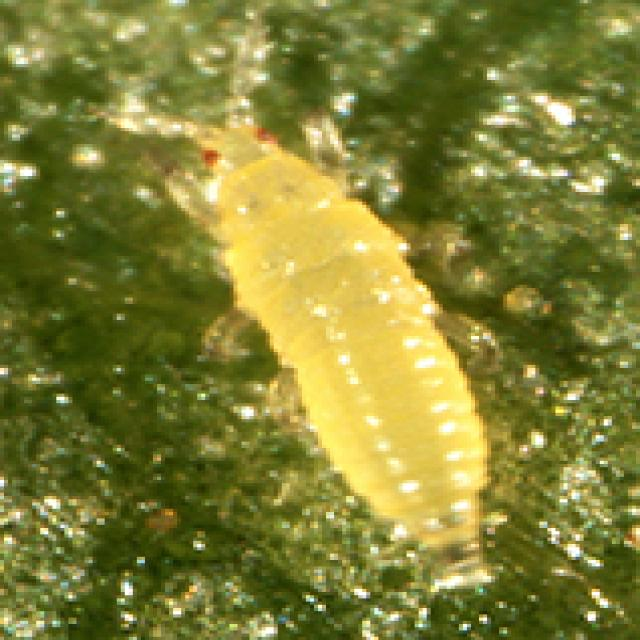Thrip-Larva-: (106, 32, 546, 594)
